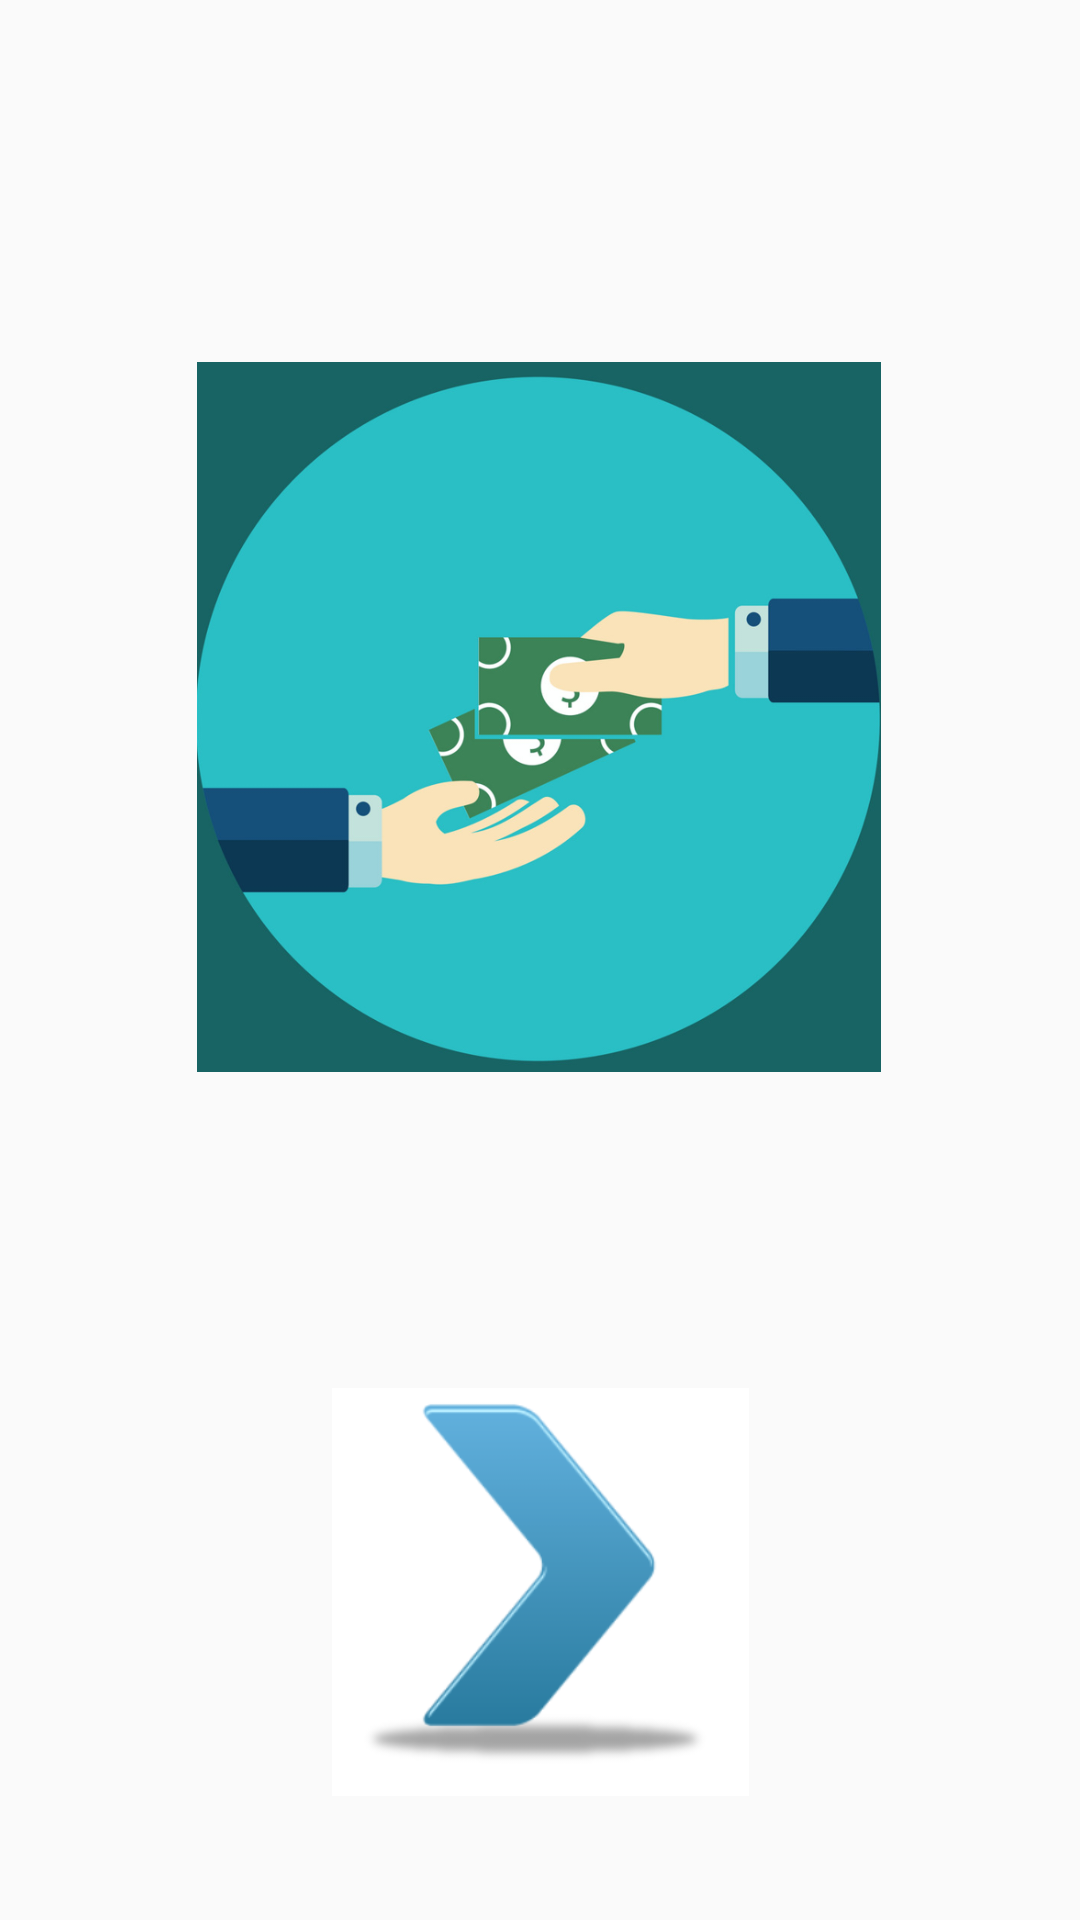

Where icons sit on this 1080*1920 app screen, as {"x1": x1, "y1": y1, "x2": x2, "y2": y2}:
next: {"x1": 375, "y1": 1404, "x2": 695, "y2": 1755}
